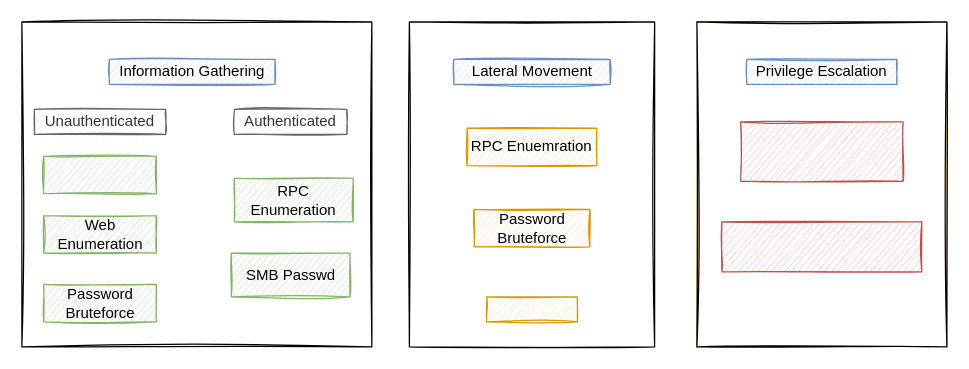
Some shapes in this 969 by 369 pixel diagram are drawn without their labels. Here are the shapes that lost their labels. From the top down, the centre of each, then its label:
At (x=821, y=151): "Visual Studio Exploit Compilation".
At (x=99, y=174): "SMB Enumeration".
At (x=821, y=246): "SeLoadDriver Exploitation".
At (x=531, y=309): "Evil-WinRM".
